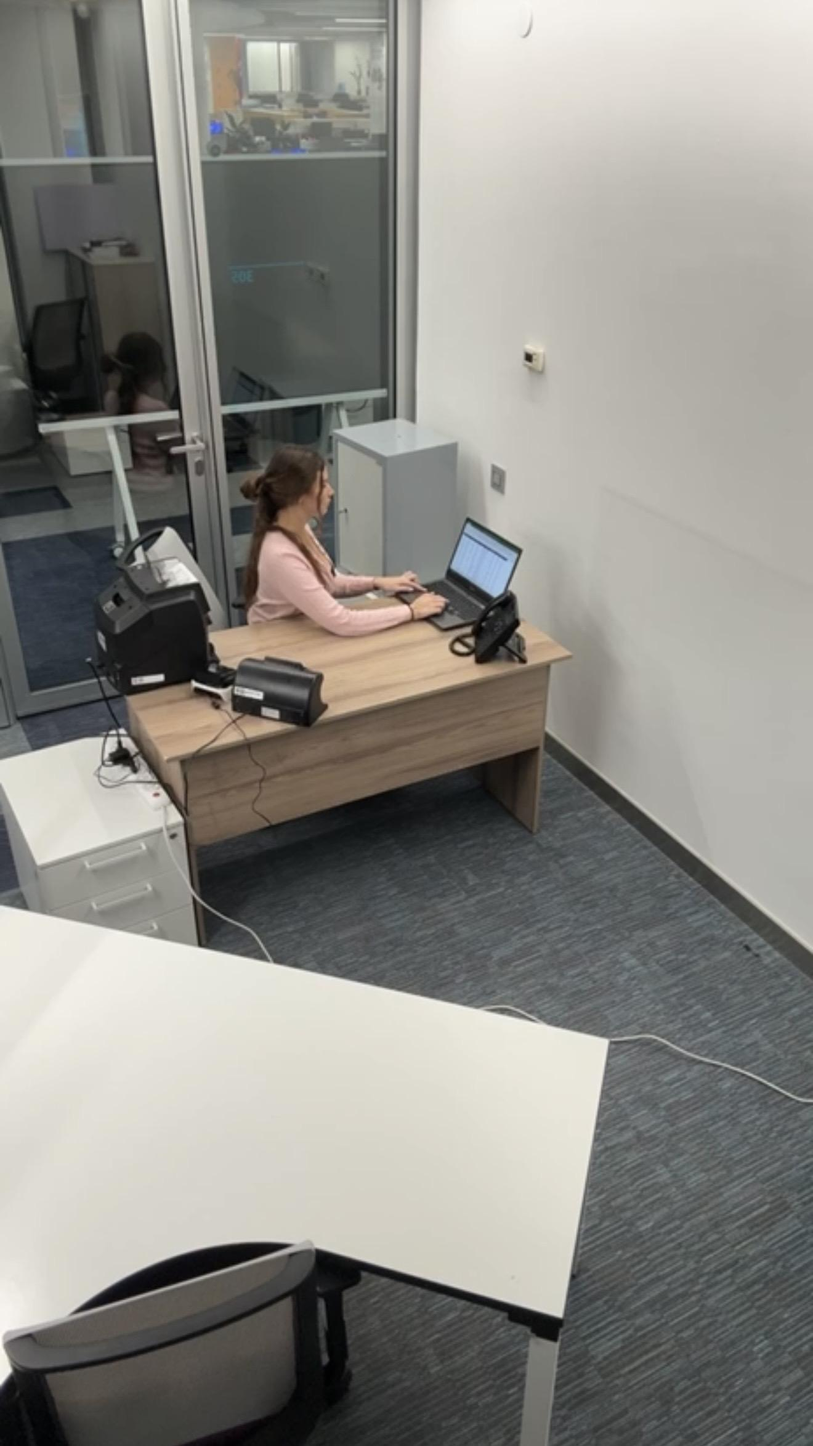counter: (92, 563, 218, 672)
key_in: (333, 493, 357, 530)
screen_on: (413, 520, 524, 633)
uv_lamp: (226, 653, 337, 709)
